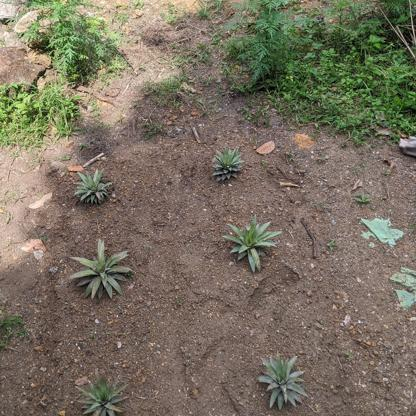pineapple: (66, 236, 137, 299), (219, 215, 286, 272), (253, 352, 308, 409), (73, 374, 132, 416), (71, 167, 117, 209), (209, 143, 245, 187)
